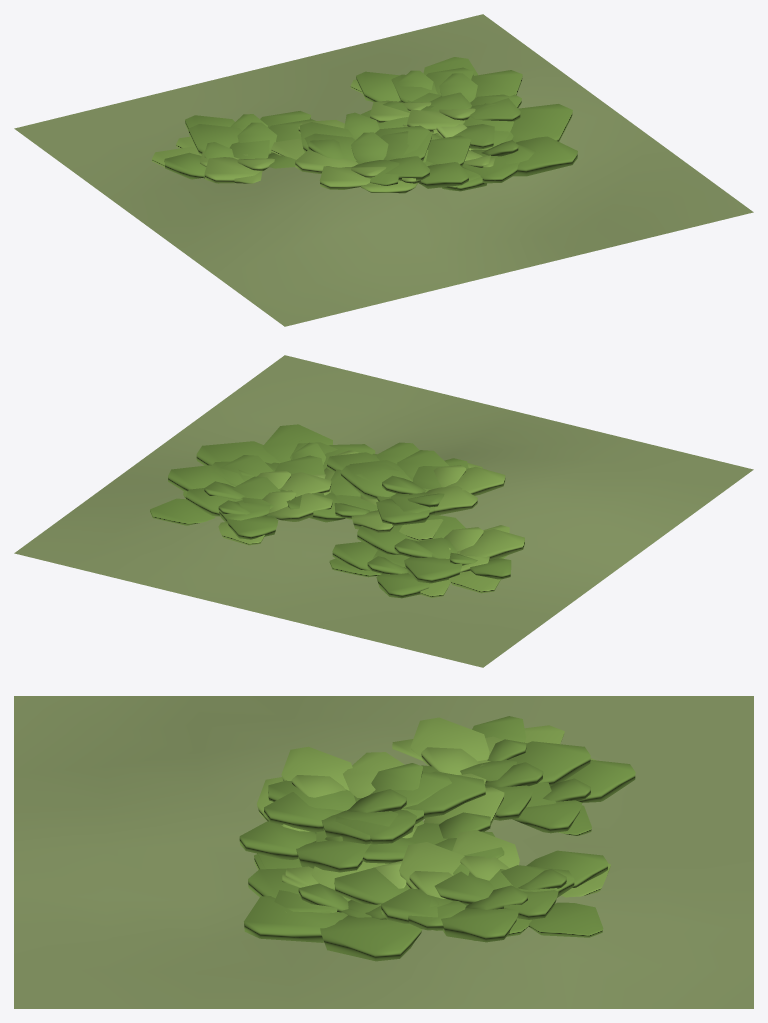
The model's file is master_grass_lush_03.glb.
3 views of the same model, one above another, from view 1: azimuth 30°, elevation 25°; view 2: azimuth 150°, elevation 25°; view 3: azimuth 270°, elevation 25° (orthographic). The views are drawn at different scales.
Visible parts, largest first — view 1: master_grass_lush_03; view 2: master_grass_lush_03; view 3: master_grass_lush_03.
Part boxes in pixels (x1=…): master_grass_lush_03: x1=14, y1=14, x2=753, y2=326; master_grass_lush_03: x1=14, y1=355, x2=753, y2=667; master_grass_lush_03: x1=14, y1=696, x2=753, y2=1008.
Size of the model in its own units: 1.35 by 0.1209 by 1.35.
